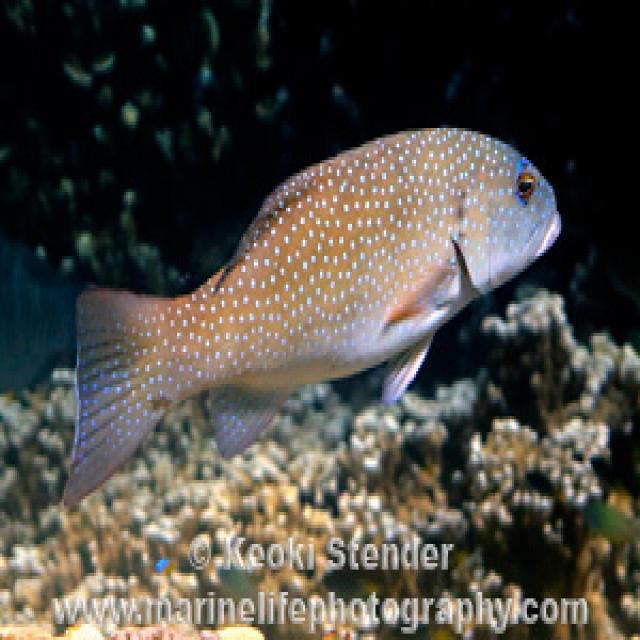Plectropomus-leopardus: (41, 112, 572, 516)
